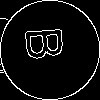B: (25, 25, 73, 62)
